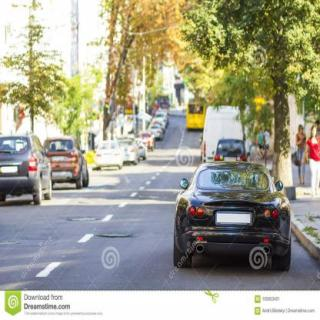Normal_vehicle: (174, 161, 289, 271)
